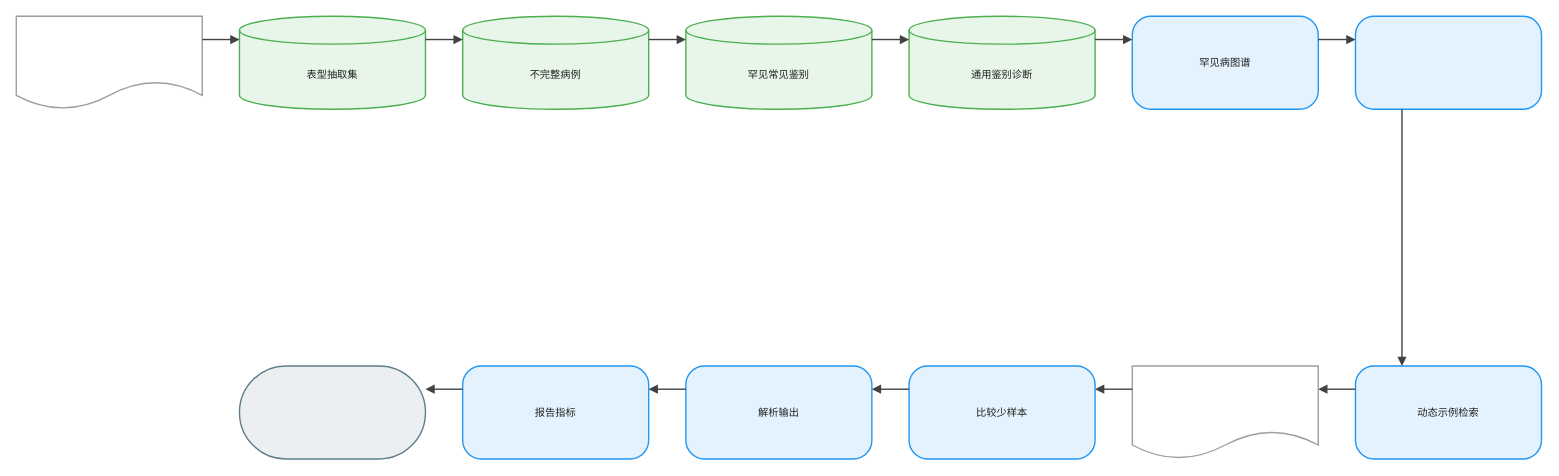
Some shapes in this 1559 by 476 pixel diagram are drawn without their labels. The shapes that lost their labels are listed below. From the top down, each one's box as (x1, y1, x2, y2) in pixels, then its label:
(15, 15, 203, 110): 患者数据来源
(1354, 15, 1542, 110): IC随机游走
(238, 365, 426, 459): 医生对比
(1131, 365, 1319, 459): 提示模型
